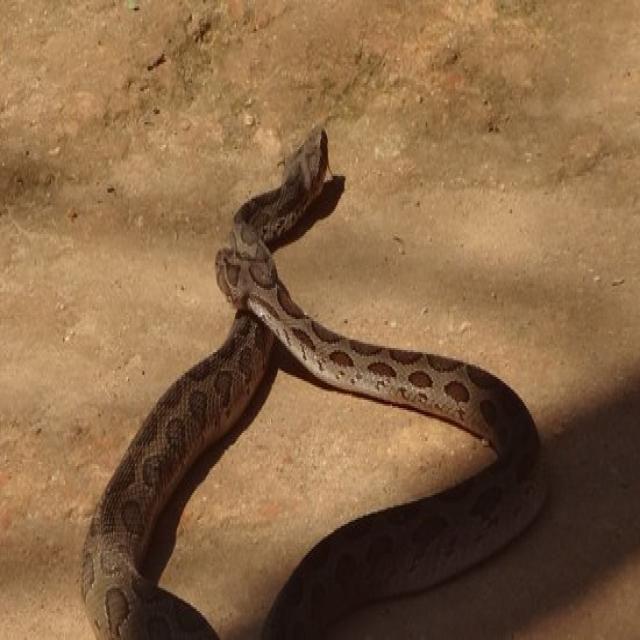Snake: (76, 122, 548, 636)
